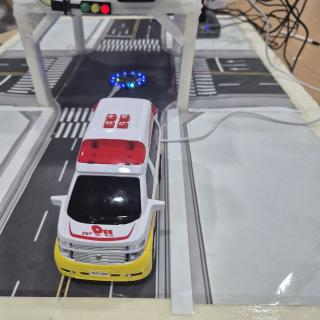Ambulance: (51, 98, 165, 282)
